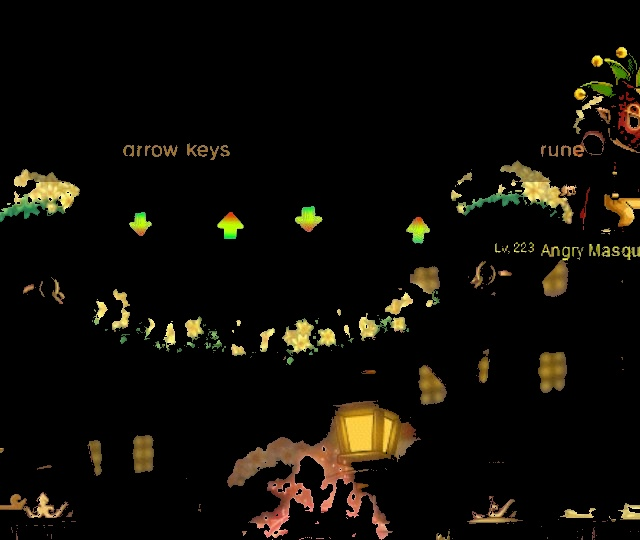down: (283, 197, 331, 244), (124, 208, 159, 241)
up: (210, 205, 258, 248), (397, 209, 440, 249)
